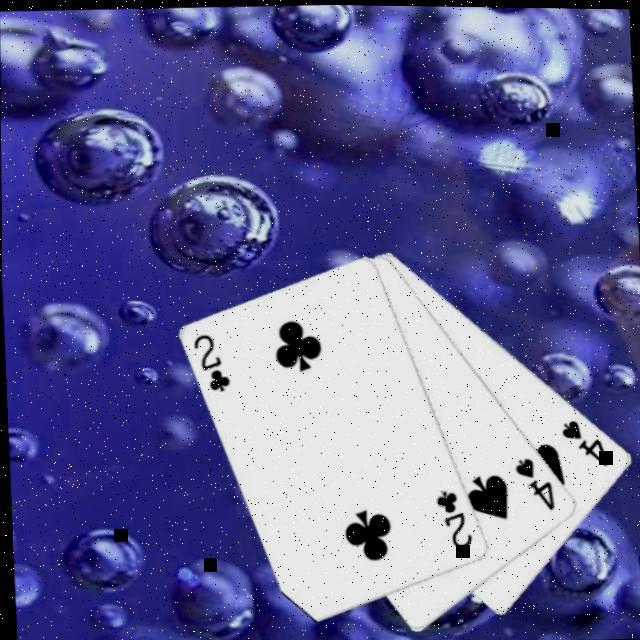2C: (433, 484, 476, 551), (190, 328, 233, 394)
4S: (558, 412, 612, 468), (512, 450, 558, 512)
